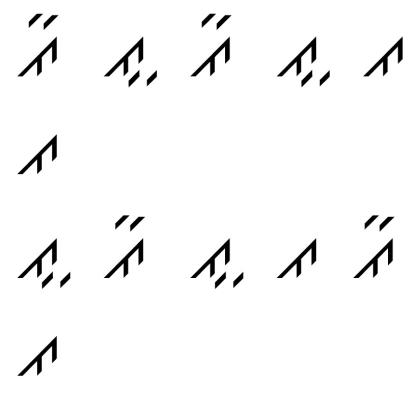ka: (265, 229, 321, 294), (356, 27, 409, 92), (15, 322, 63, 390), (9, 125, 64, 183)
kah: (6, 222, 74, 304), (186, 224, 247, 300), (270, 26, 332, 98), (98, 28, 160, 100)
kan: (98, 205, 156, 289), (341, 203, 398, 283), (13, 9, 66, 82), (188, 9, 233, 84)
